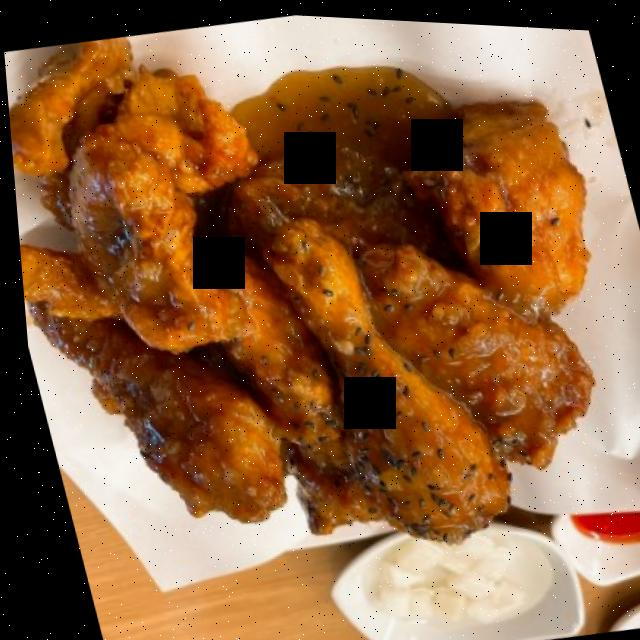Frango: (0, 0, 640, 616)
